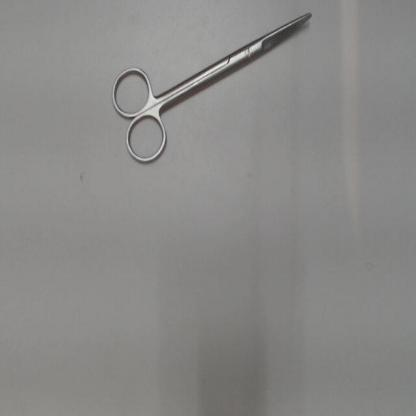Curved Mayo Scissors: (105, 5, 318, 172)
